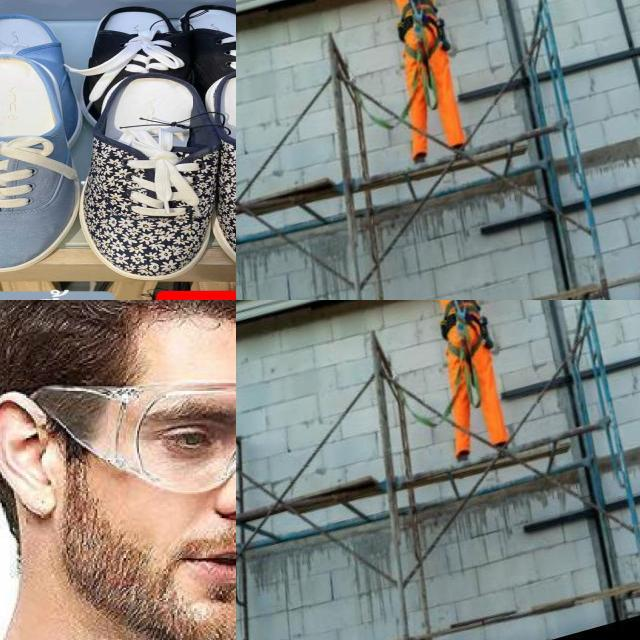Harness: (398, 0, 450, 50), (441, 300, 493, 348)
No_Ear-Protection: (0, 385, 50, 520)
Sandals: (52, 41, 236, 297), (0, 0, 93, 278)
face_nomask: (143, 390, 236, 607)
glasses: (26, 377, 236, 496)
head_nohelmet: (21, 300, 236, 360)
